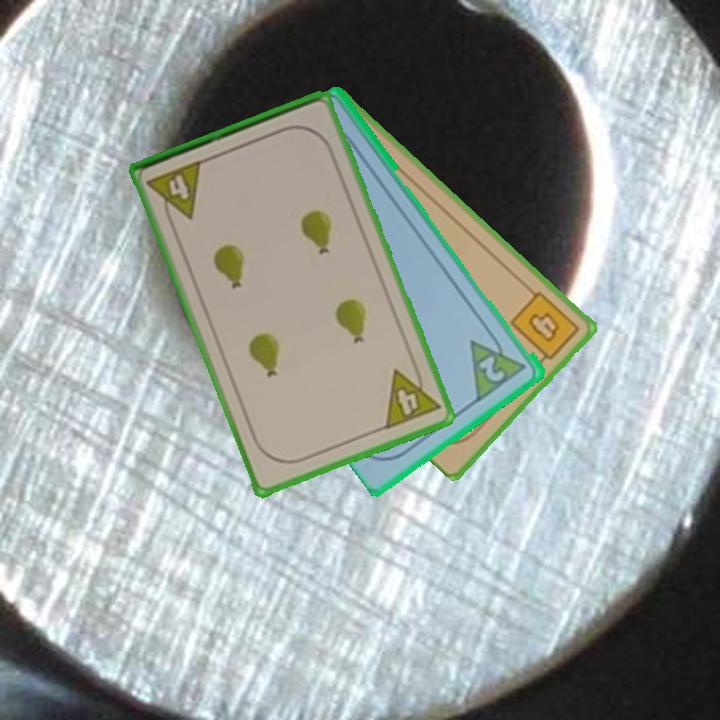2p: (476, 352, 509, 385)
4b: (506, 287, 583, 369)
4p: (381, 359, 444, 433), (144, 156, 206, 228)
